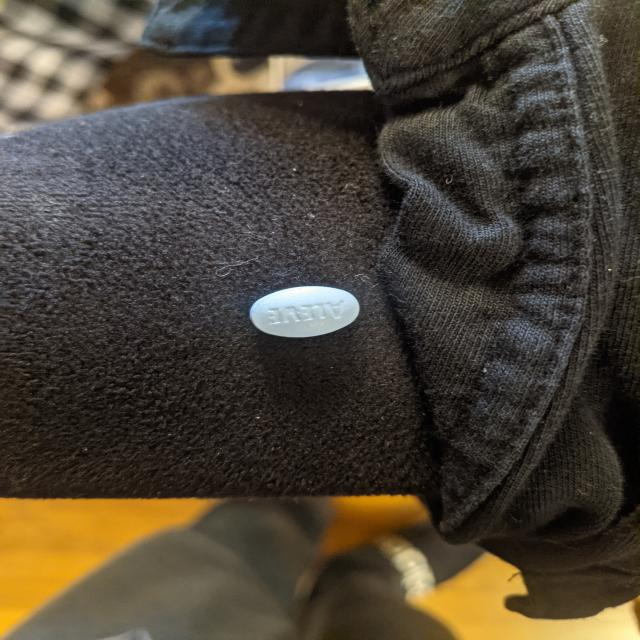non-organic waste: (248, 285, 361, 339)
